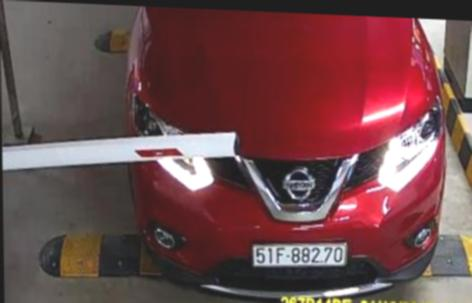License_Plate: (254, 240, 347, 271)
